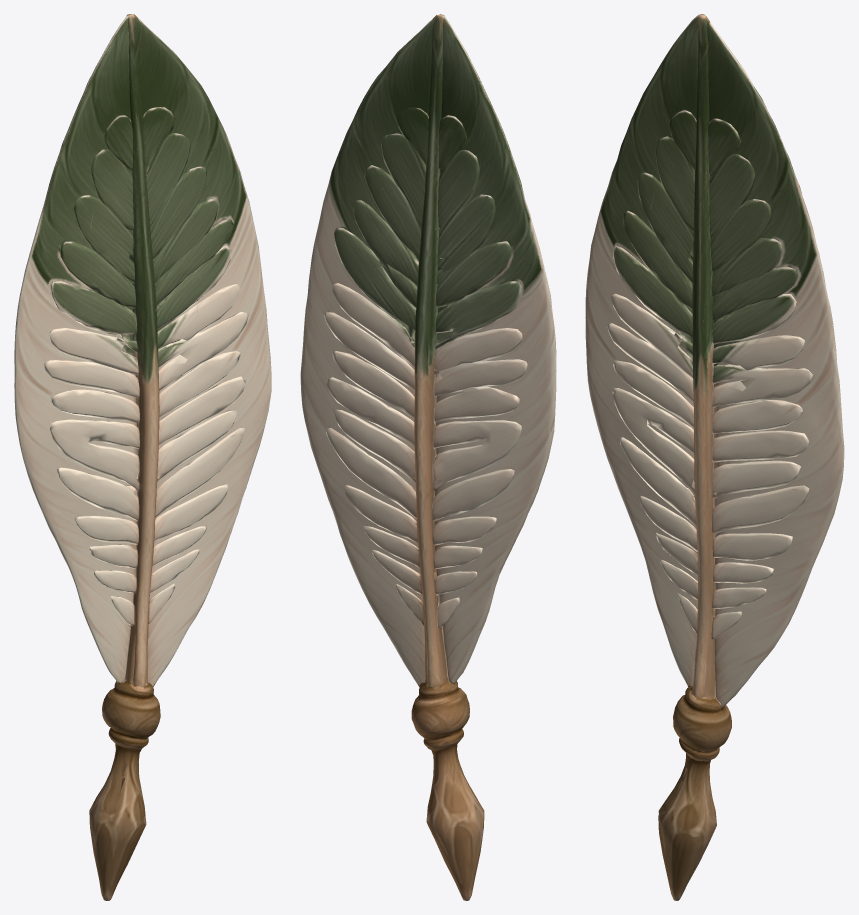
File: pluma.glb
3 renders of one model, left to right at view 1: azimuth 30°, elevation 25°; view 2: azimuth 150°, elevation 25°; view 3: azimuth 330°, elevation 25°, orthographic.
Parts seen in each view (by area): view 1: pluma; view 2: pluma; view 3: pluma.
Boxes of the visible parts, x1,y1,x2,y2 form: pluma: (14,14,271,900); pluma: (300,14,556,900); pluma: (585,14,844,900).
Size of the model in its own units: 0.2137 by 0.7 by 0.0448.
1 material, 1 textured.
